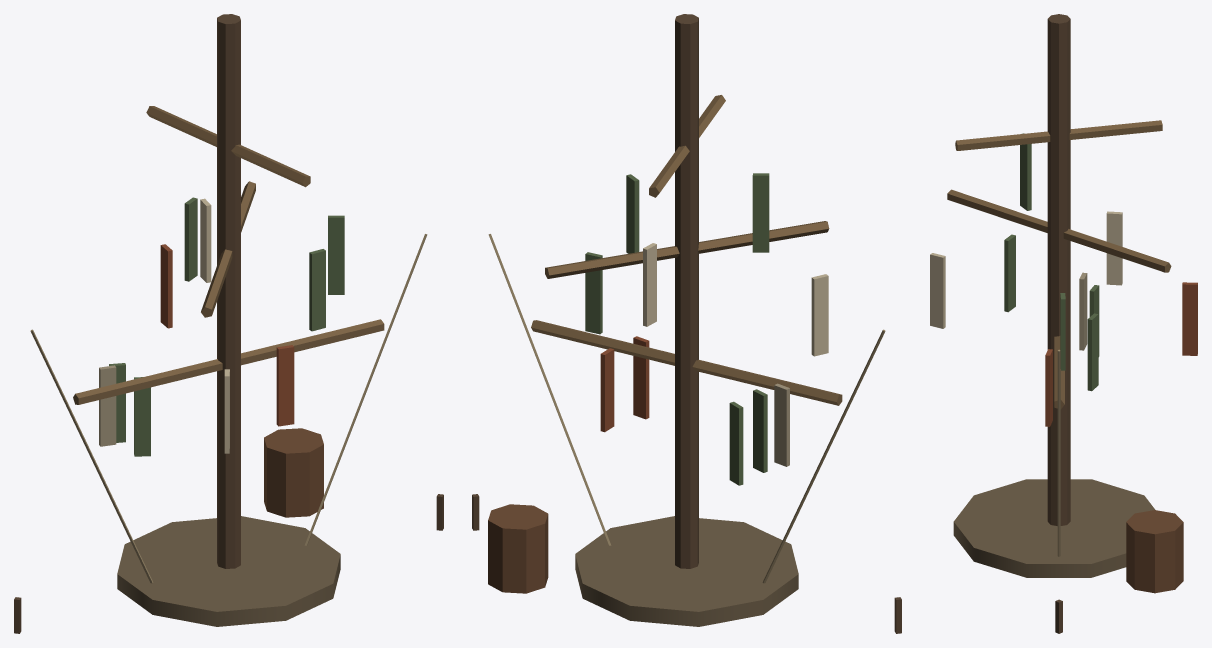
File: V_DryingMast.glb
The picture shows the model from 3 angles, left to right: view 1: azimuth 30°, elevation 25°; view 2: azimuth 150°, elevation 25°; view 3: azimuth 270°, elevation 25°; orthographic projection. The views are drawn at different scales.
Visible parts, largest first — view 1: V_DryingMast_Props, V_DryingMast_Foundation, V_DryingMast_Structure, V_DryingMast_Fixtures; view 2: V_DryingMast_Props, V_DryingMast_Foundation, V_DryingMast_Structure, V_DryingMast_Fixtures; view 3: V_DryingMast_Foundation, V_DryingMast_Props, V_DryingMast_Structure, V_DryingMast_Fixtures.
Part boxes in pixels (x1,y1,x2,y2): V_DryingMast_Props: [14, 197, 443, 633]; V_DryingMast_Foundation: [117, 516, 340, 626]; V_DryingMast_Structure: [217, 14, 240, 568]; V_DryingMast_Fixtures: [73, 106, 384, 404]; V_DryingMast_Props: [472, 173, 901, 633]; V_DryingMast_Foundation: [575, 516, 798, 626]; V_DryingMast_Structure: [675, 14, 698, 568]; V_DryingMast_Fixtures: [531, 95, 842, 405]; V_DryingMast_Foundation: [953, 479, 1155, 577]; V_DryingMast_Props: [930, 133, 1197, 633]; V_DryingMast_Structure: [1047, 14, 1070, 525]; V_DryingMast_Fixtures: [947, 120, 1171, 409].
Bounding box in the file's own units: 4.78 × 5.97 × 2.79.
